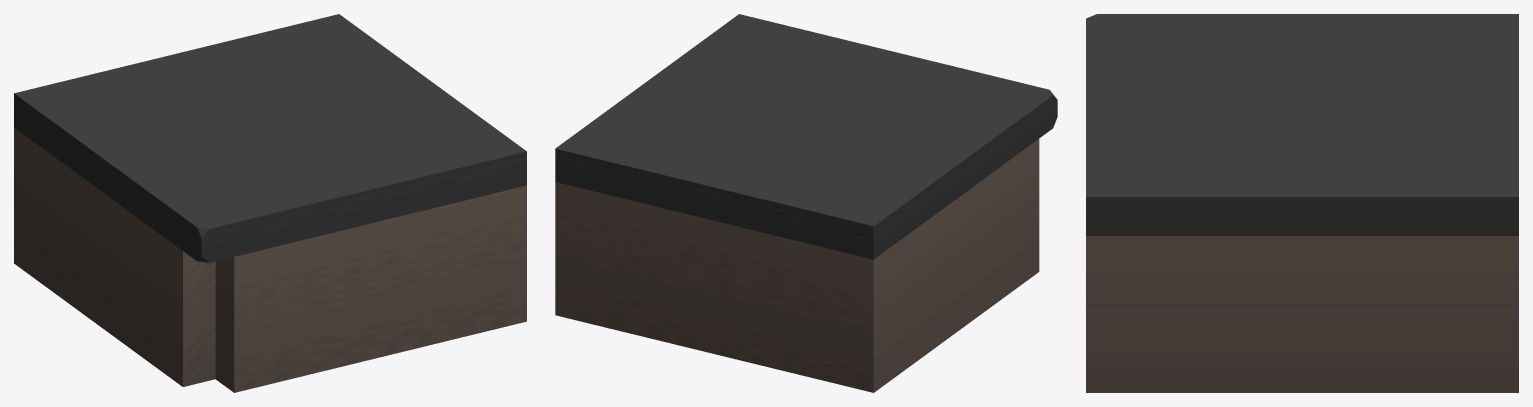
Rendered from kitchencounter_innercorner_styleB.gltf.
3 renders of one model, left to right at view 1: azimuth 30°, elevation 25°; view 2: azimuth 150°, elevation 25°; view 3: azimuth 270°, elevation 25°, orthographic. The views are drawn at different scales.
Visible parts, largest first — view 1: kitchencounter_innercorner_styleB; view 2: kitchencounter_innercorner_styleB; view 3: kitchencounter_innercorner_styleB.
Boxes of the visible parts, box(x1,y1,x2,y2) form: kitchencounter_innercorner_styleB: box(14, 14, 526, 392); kitchencounter_innercorner_styleB: box(555, 14, 1057, 392); kitchencounter_innercorner_styleB: box(1086, 14, 1518, 392).
Bounding box in the file's own units: 2 × 1 × 2.
1 material, 1 textured.
